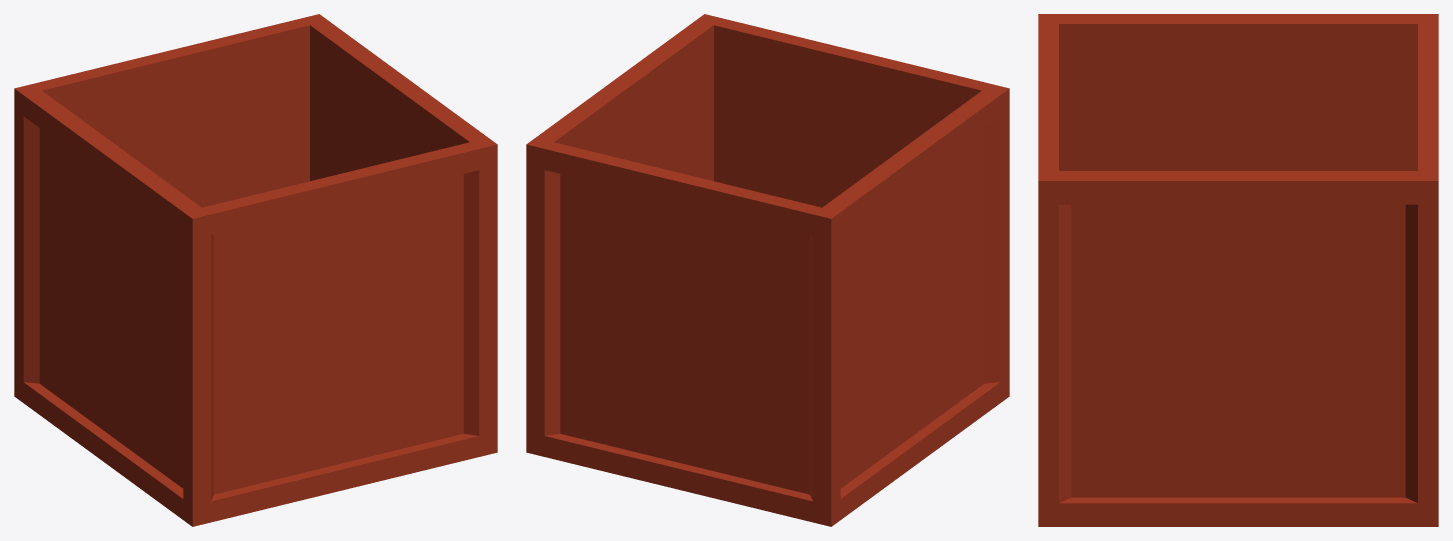
File: O_enviroment_WoodenCrate_BigOpen1.fbx
3 renders of one model, left to right at view 1: azimuth 30°, elevation 25°; view 2: azimuth 150°, elevation 25°; view 3: azimuth 270°, elevation 25°, orthographic. The views are drawn at different scales.
Parts seen in each view (by area): view 1: pCube6; view 2: pCube6; view 3: pCube6.
Boxes of the visible parts, x1,y1,x2,y2 form: pCube6: (14,14,497,526); pCube6: (526,14,1009,526); pCube6: (1038,14,1438,526).
Size of the model in its own units: 3.02 by 2.92 by 3.06.
